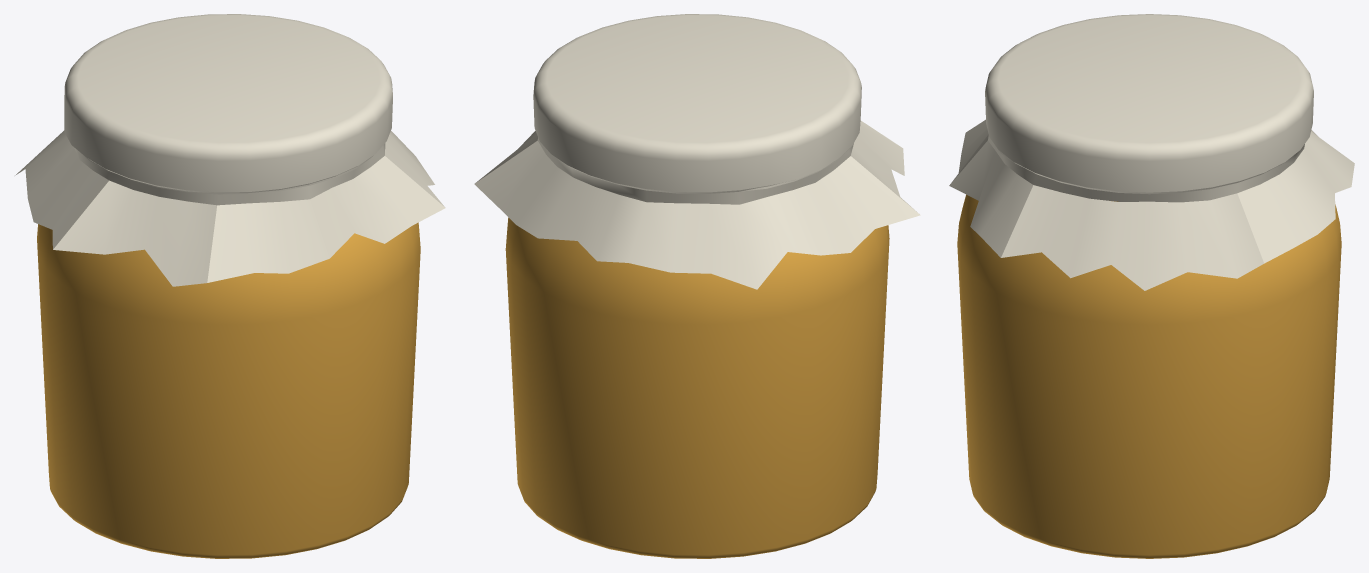
The model's file is honey.fbx.
3 views of the same model, side by side, from view 1: azimuth 30°, elevation 25°; view 2: azimuth 150°, elevation 25°; view 3: azimuth 270°, elevation 25° (orthographic).
Parts seen in each view (by area): view 1: Circle; view 2: Circle; view 3: Circle.
Boxes of the visible parts, bbox=[...] form: Circle: bbox=[15, 14, 445, 558]; Circle: bbox=[474, 14, 920, 558]; Circle: bbox=[949, 14, 1354, 558].
Bounding box in the file's own units: 22.35 × 23.13 × 20.94.
